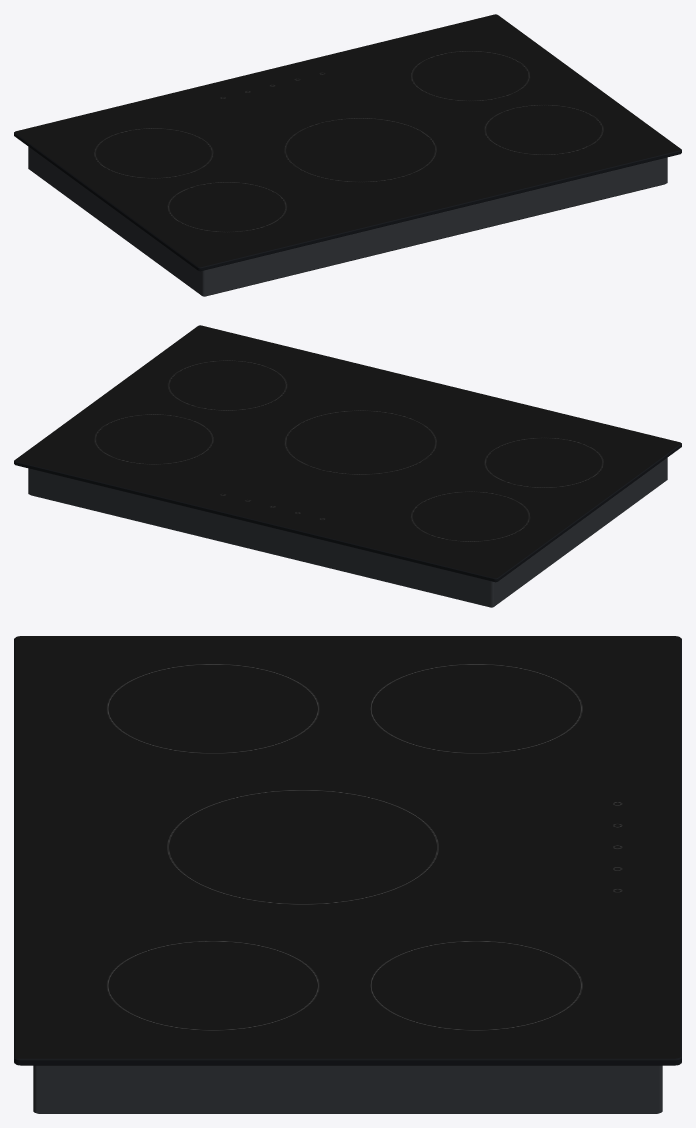
File: APPL_COOKTOP_800_BLACK.glb
3 renders of one model, top to bottom at view 1: azimuth 30°, elevation 25°; view 2: azimuth 150°, elevation 25°; view 3: azimuth 270°, elevation 25°, orthographic. The views are drawn at different scales.
Parts seen in each view (by area): view 1: Installation_Body, Visible_Top; view 2: Installation_Body, Visible_Top; view 3: Installation_Body, Visible_Top.
Part boxes in pixels (x1,y1,x2,y2): Installation_Body: (28, 20, 667, 296); Visible_Top: (14, 14, 681, 271); Installation_Body: (28, 331, 667, 607); Visible_Top: (14, 325, 681, 582); Installation_Body: (33, 643, 662, 1113); Visible_Top: (14, 636, 681, 1065).
Bounding box in the file's own units: 0.78 × 0.055 × 0.52.
3 materials, 1 textured.
